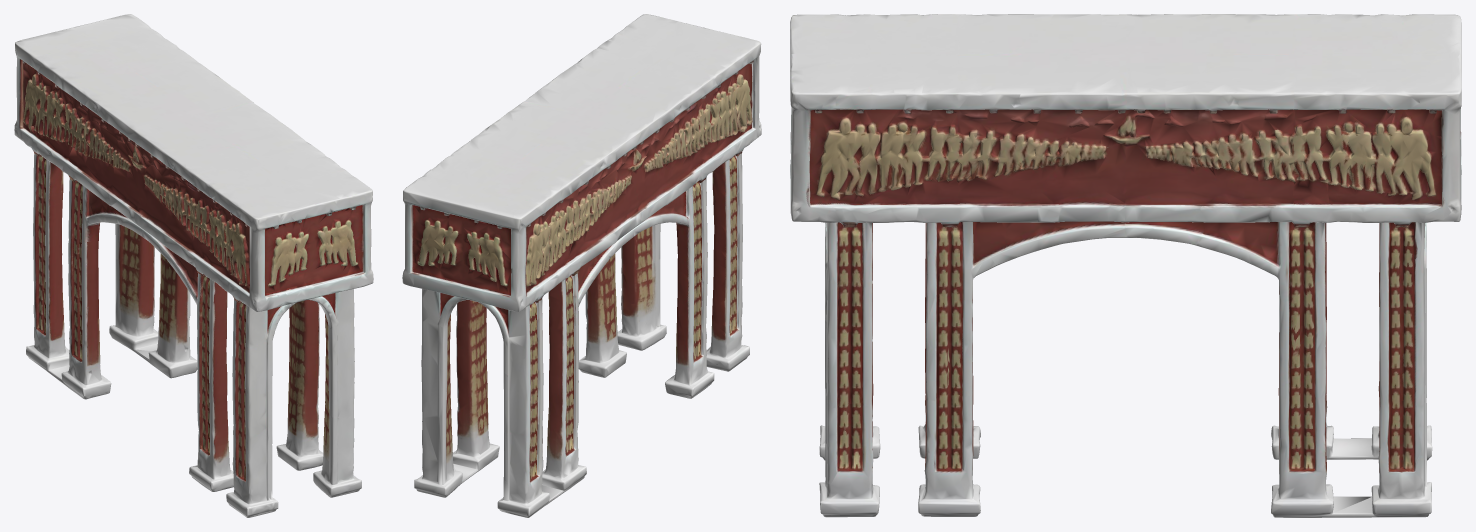
File: porte.glb
The picture shows the model from 3 angles, left to right: view 1: azimuth 30°, elevation 25°; view 2: azimuth 150°, elevation 25°; view 3: azimuth 270°, elevation 25°; orthographic projection. The views are drawn at different scales.
Parts seen in each view (by area): view 1: tripo_node_72d3a909-c524-424a-8e50-98a6a91056ce; view 2: tripo_node_72d3a909-c524-424a-8e50-98a6a91056ce; view 3: tripo_node_72d3a909-c524-424a-8e50-98a6a91056ce.
Part boxes in pixels (x1=…): tripo_node_72d3a909-c524-424a-8e50-98a6a91056ce: x1=14, y1=14, x2=373, y2=517; tripo_node_72d3a909-c524-424a-8e50-98a6a91056ce: x1=402, y1=14, x2=761, y2=517; tripo_node_72d3a909-c524-424a-8e50-98a6a91056ce: x1=790, y1=14, x2=1461, y2=517.
Size of the model in its own units: 0.2853 by 0.7027 by 0.9999.
1 material, 1 textured.
